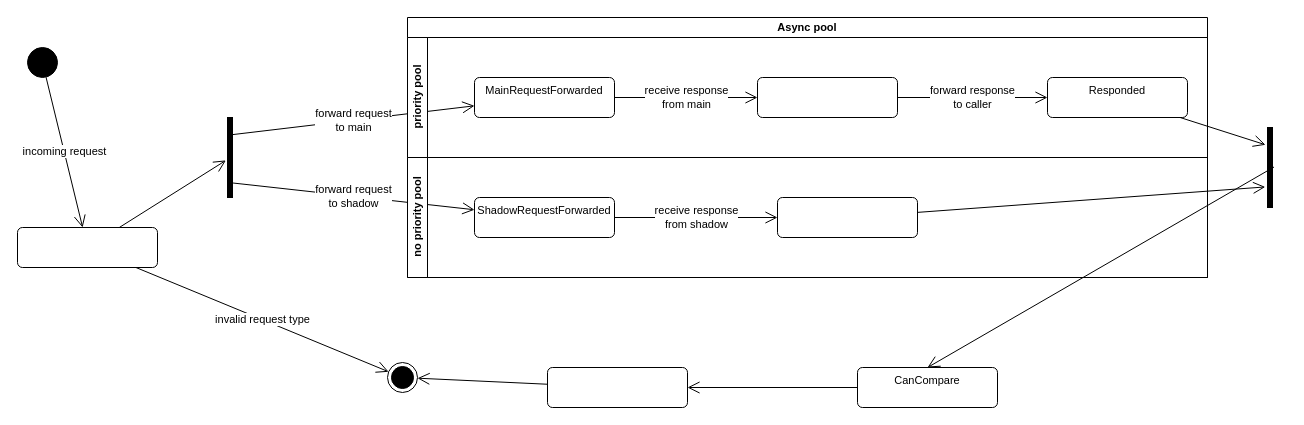
This 1304x425 diagram has some shape labels left out. Each missing label, with the centre of its shape:
AcceptedRequest: pixel 87 247
MainResponseReceived: pixel 827 97
ShadowResponseReceived: pixel 847 217
StoreResults: pixel 617 387
